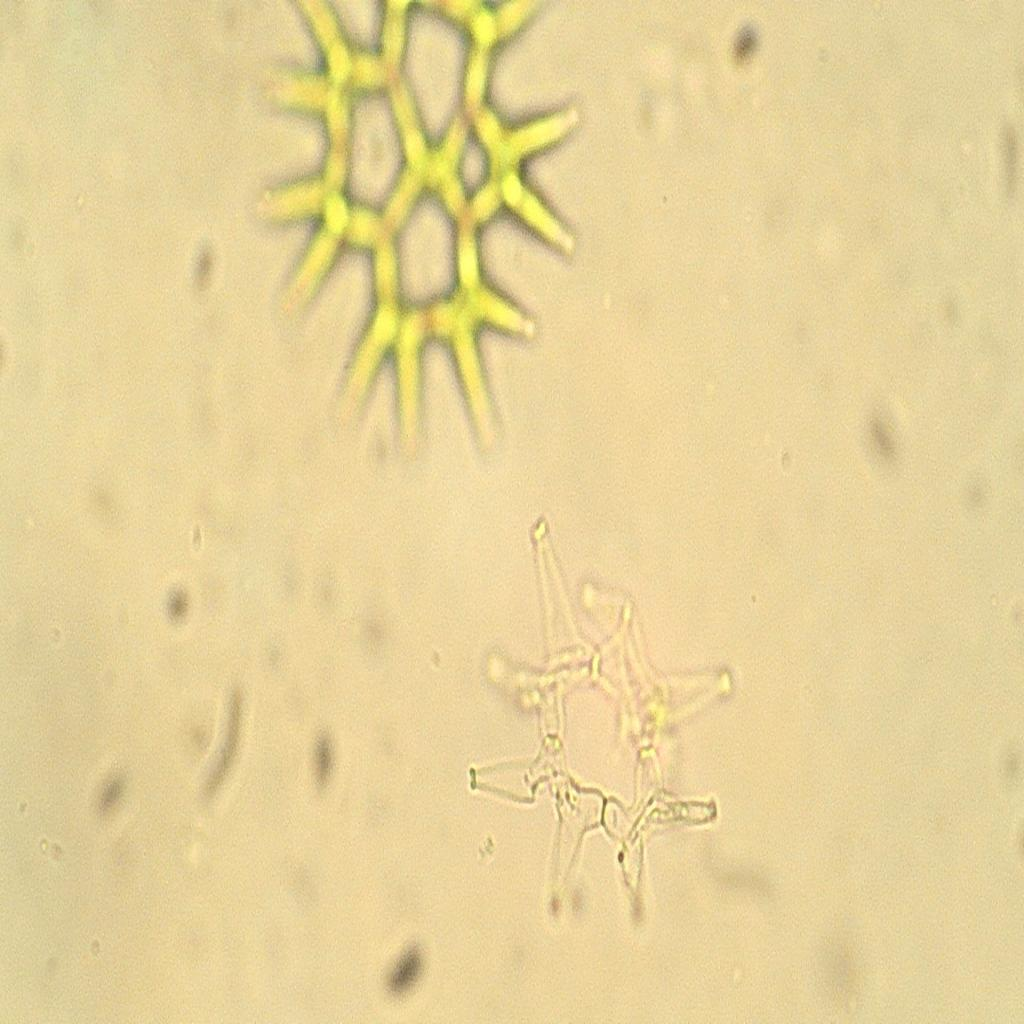Pediastrum_75TH: (448, 486, 752, 956)
